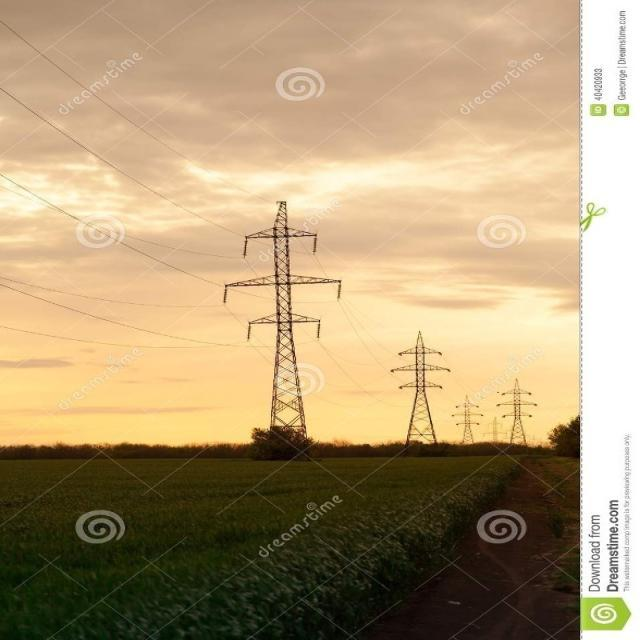non-critical vegetation: (237, 196, 347, 431), (392, 331, 454, 438)
